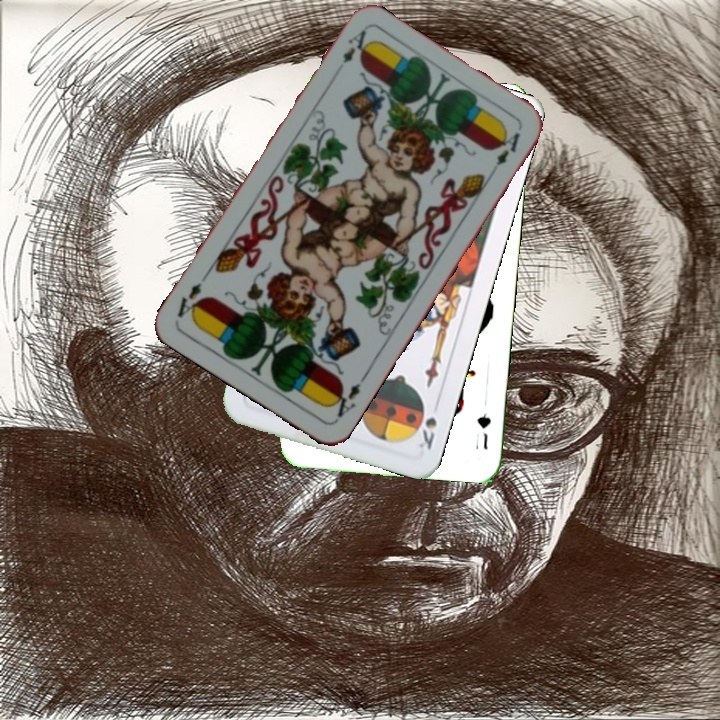EA: (326, 370, 370, 423), (338, 25, 371, 66)
GU: (473, 409, 493, 452)
SK: (414, 396, 442, 453)
